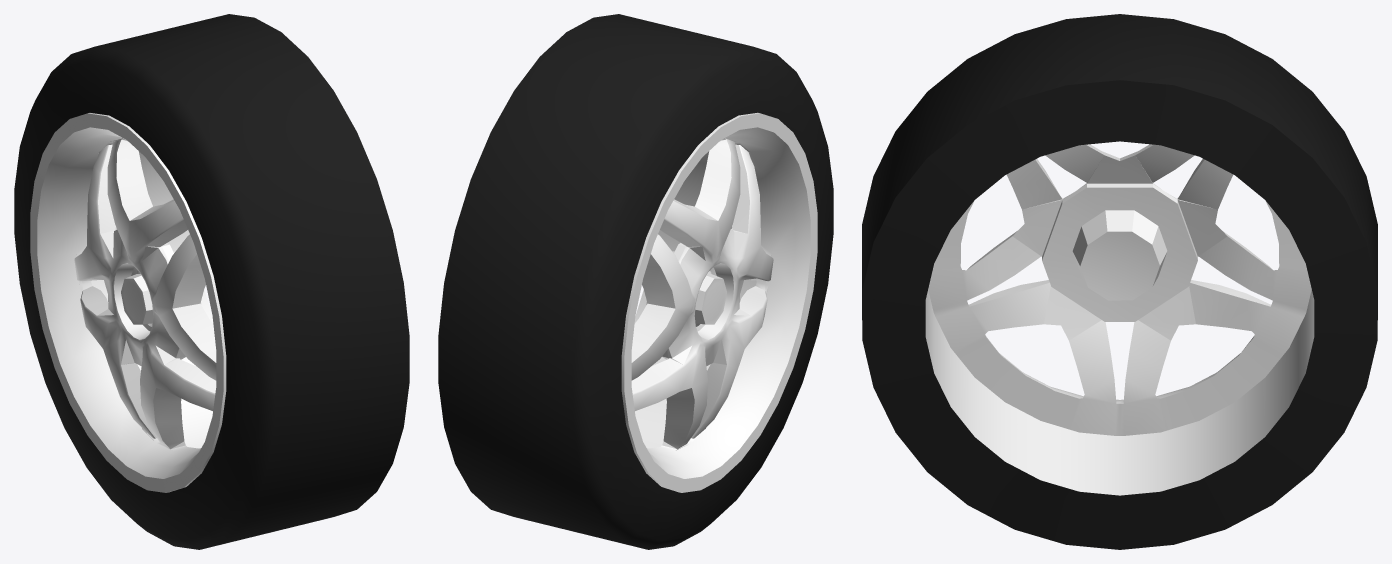
File: ferrari_f50_wheelhigh.obj
3 views of the same model, side by side, from view 1: azimuth 30°, elevation 25°; view 2: azimuth 150°, elevation 25°; view 3: azimuth 270°, elevation 25° (orthographic).
Visible parts, largest first — view 1: ferrari_f50_wheelhigh_cockpit.005; view 2: ferrari_f50_wheelhigh_cockpit.005; view 3: ferrari_f50_wheelhigh_cockpit.005.
Boxes of the visible parts, x1=… form: ferrari_f50_wheelhigh_cockpit.005: x1=14, y1=14, x2=409, y2=549; ferrari_f50_wheelhigh_cockpit.005: x1=438, y1=14, x2=833, y2=549; ferrari_f50_wheelhigh_cockpit.005: x1=862, y1=14, x2=1377, y2=549.
Size of the model in its own units: 0.2283 by 0.6303 by 0.6268.
